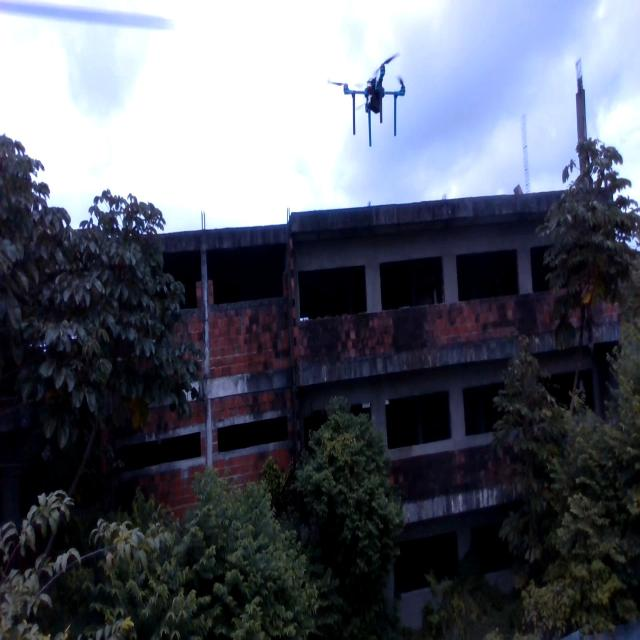-uav-: (316, 44, 436, 168)
